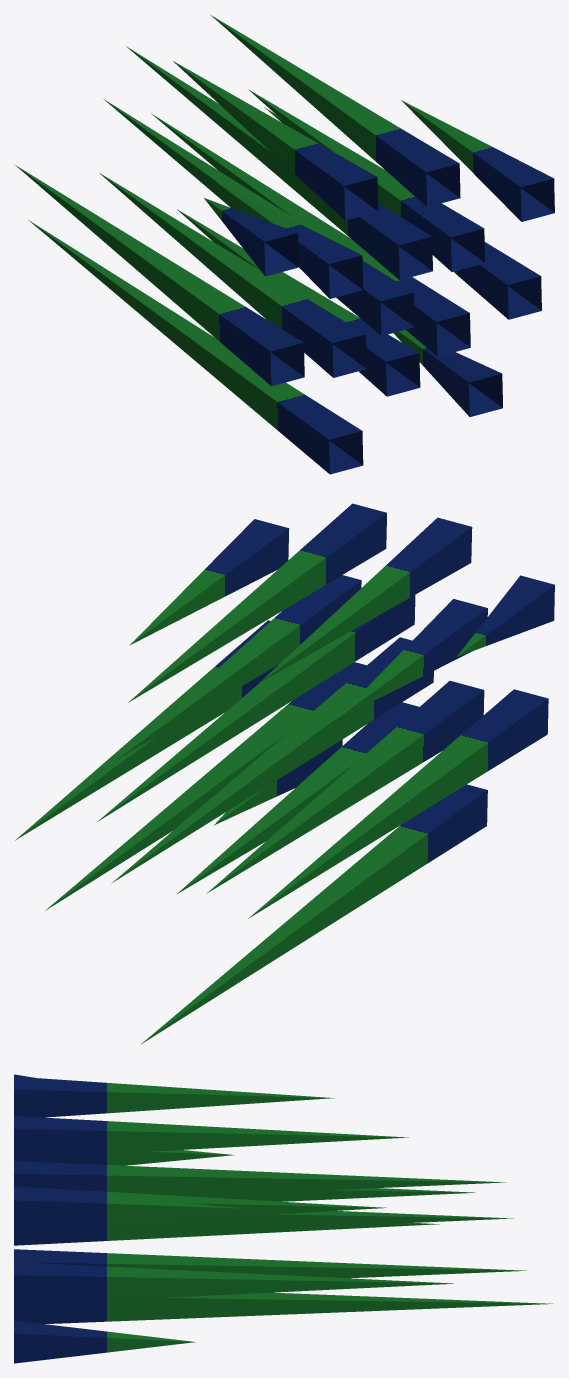
Rendered from plant.glb.
3 renders of one model, top to bottom at view 1: azimuth 30°, elevation 25°; view 2: azimuth 150°, elevation 25°; view 3: azimuth 270°, elevation 25°, orthographic. The views are drawn at different scales.
Parts seen in each view (by area): view 1: plant; view 2: plant; view 3: plant.
Part boxes in pixels (x1=…): plant: x1=14, y1=15, x2=554, y2=474; plant: x1=15, y1=503, x2=554, y2=1044; plant: x1=14, y1=1074, x2=552, y2=1363.
Size of the model in its own units: 0.0558 by 0.0525 by 0.1062.
1 material, 1 textured.
